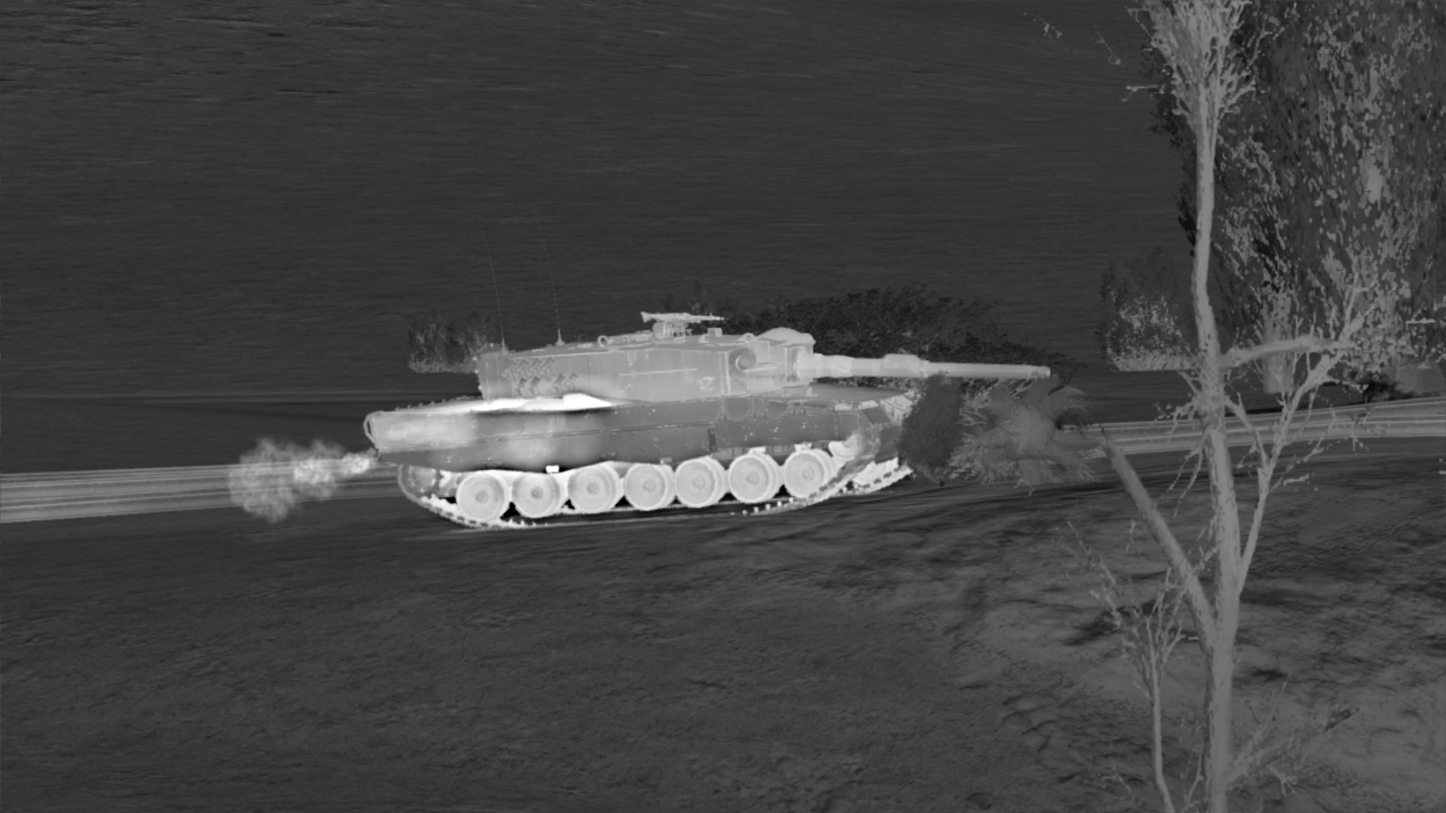leopard2: (363, 311, 1053, 530)
